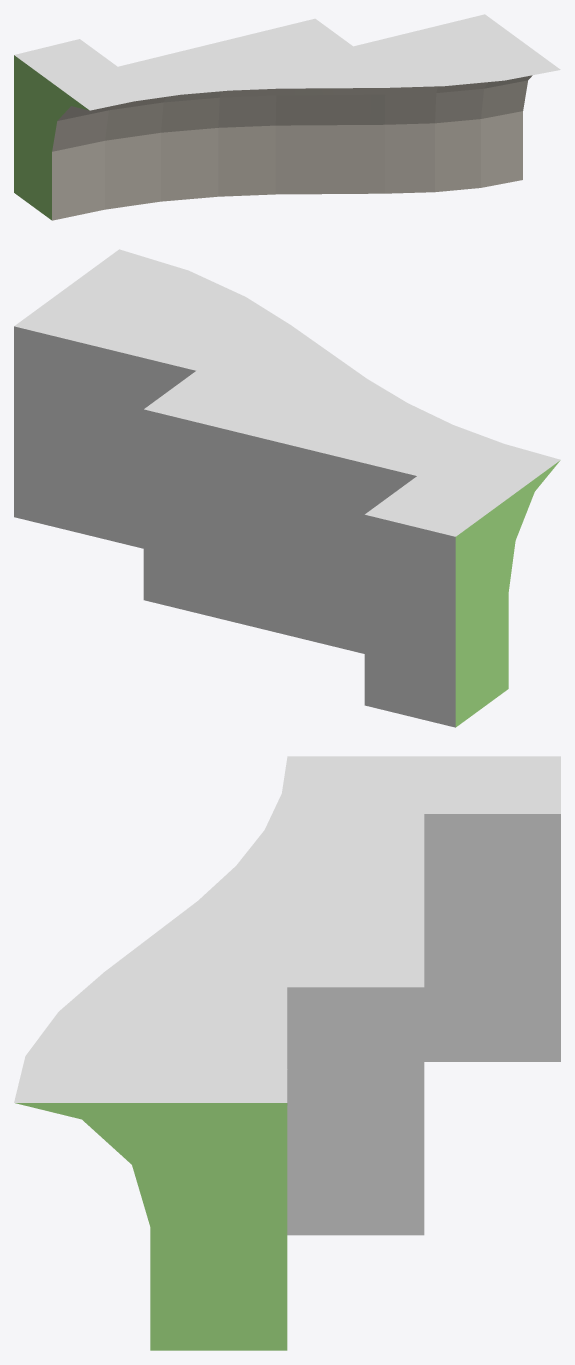
File: Wall_Esse_4x6_Top.glb
3 renders of one model, top to bottom at view 1: azimuth 30°, elevation 25°; view 2: azimuth 150°, elevation 25°; view 3: azimuth 270°, elevation 25°, orthographic. The views are drawn at different scales.
Parts seen in each view (by area): view 1: Wall_Esse_4x6_Top; view 2: Wall_Esse_4x6_Top; view 3: Wall_Esse_4x6_Top.
Part boxes in pixels (x1=…): Wall_Esse_4x6_Top: x1=14, y1=14, x2=560, y2=220; Wall_Esse_4x6_Top: x1=14, y1=249, x2=560, y2=727; Wall_Esse_4x6_Top: x1=14, y1=756, x2=560, y2=1350.
Size of the model in its own units: 600 by 200 by 400.
